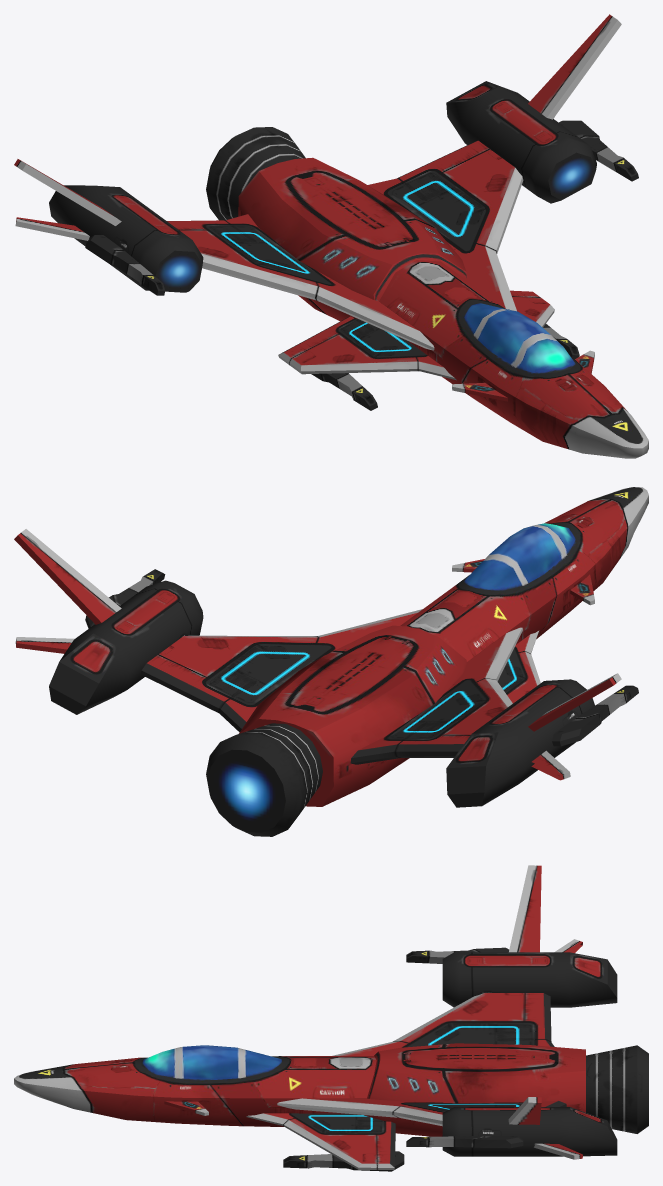
Rendered from spaceship.glb.
3 views of the same model, one above another, from view 1: azimuth 30°, elevation 25°; view 2: azimuth 150°, elevation 25°; view 3: azimuth 270°, elevation 25° (orthographic). The views are drawn at different scales.
Visible parts, largest first — view 1: StarSparrow03_Mesh.021; view 2: StarSparrow03_Mesh.021; view 3: StarSparrow03_Mesh.021.
Boxes of the visible parts, x1,y1,x2,y2 form: StarSparrow03_Mesh.021: (14,14,648,458); StarSparrow03_Mesh.021: (14,487,648,836); StarSparrow03_Mesh.021: (14,865,648,1171).
Size of the model in its own units: 9.49 by 2.81 by 10.85.
Materials: 1 (1 with a texture image).
